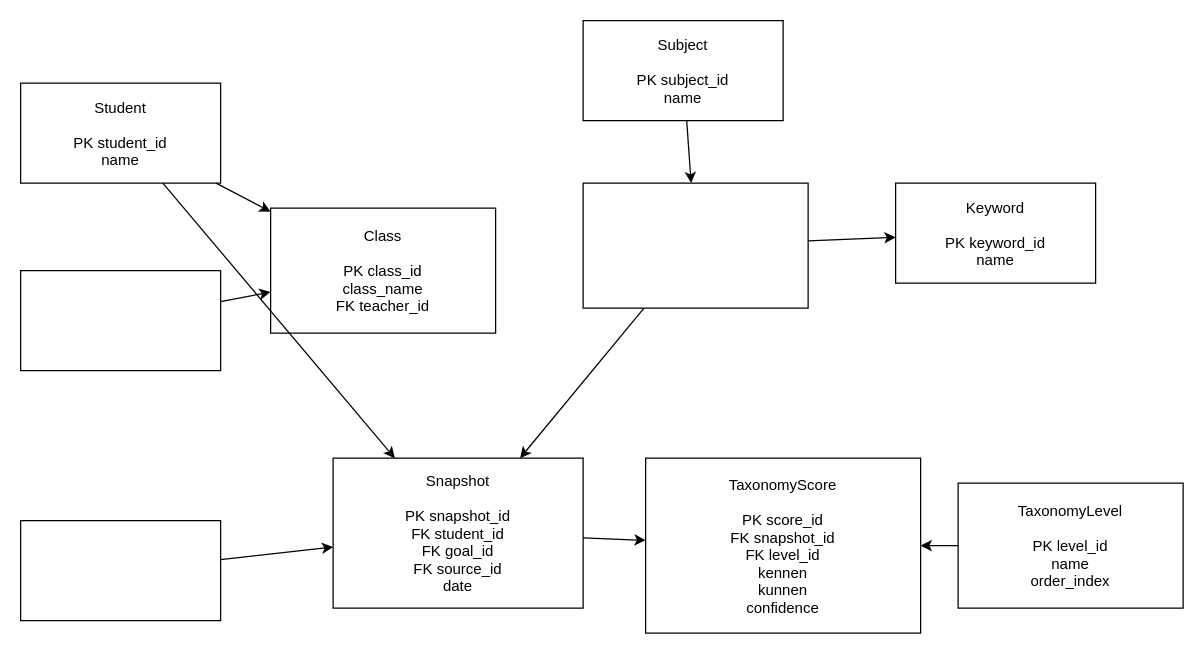
Image size: 1204x654. Some labels were removed from this diagram. The centre of each missing label's shape, as x and y in pixels:
"LearningGoal PK goal_id title FK subject_id" belongs at pixel 695 245.
"Source PK source_id type" belongs at pixel 120 570.
"Teacher PK teacher_id name" belongs at pixel 120 320.
